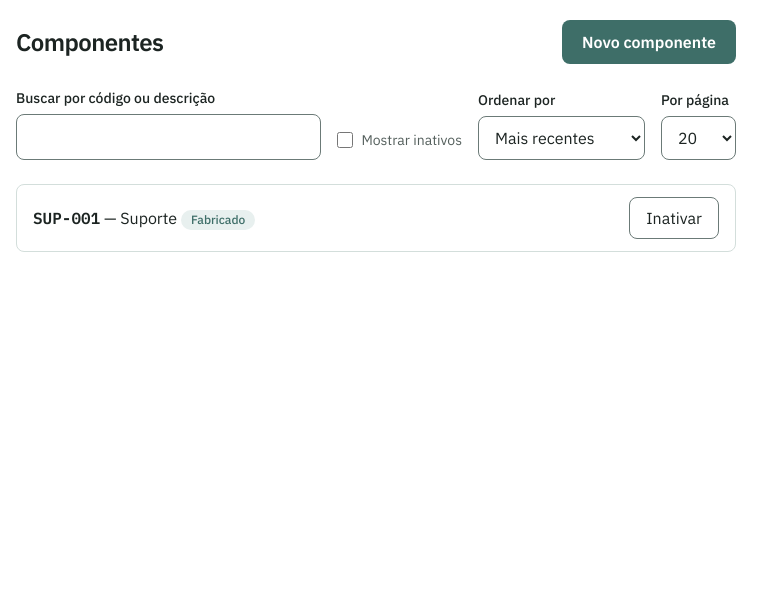
it: ComponentesPage › cadastra com sucesso: envia o corpo digitado (inclusive o tipo escolhido), limpa o formulario e recarrega a lista
The width and height of the screenshot is (757, 593).
Expected: the text "SUP-001" is shown, [33, 208, 100, 228]
Click the button "Novo componente": (649, 42) [562, 20, 736, 64]
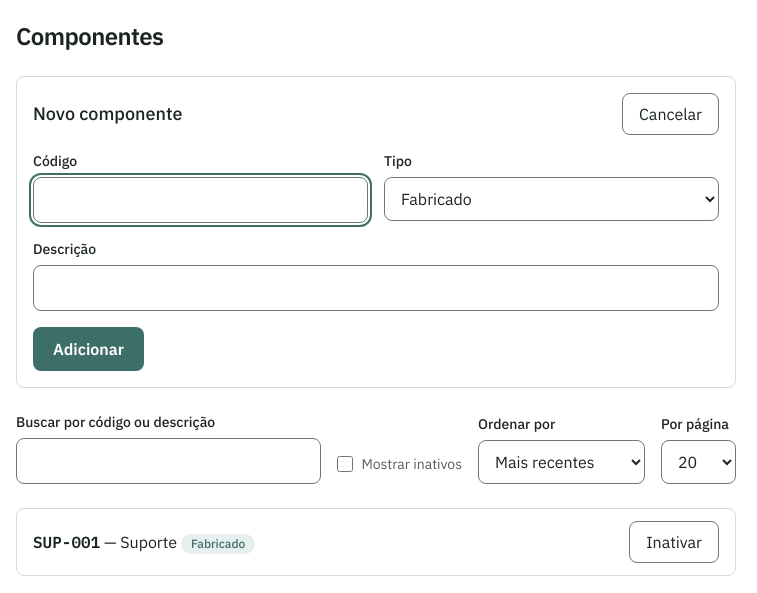
In the field labelled "Código": (200, 200) [33, 177, 368, 223], type "MON-001"
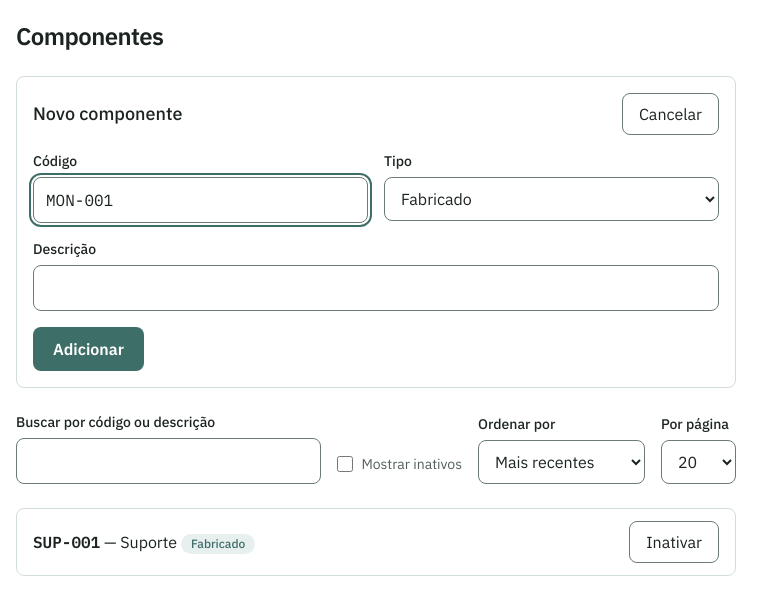
In the field labelled "Descrição": (376, 288) [33, 265, 719, 311], type "Montagem X"
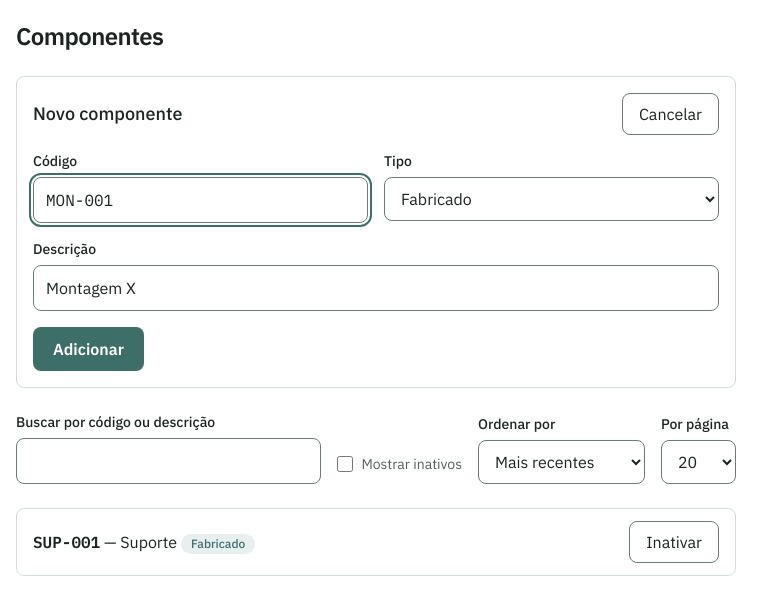
Select "Montagem" in the dropdown labelled "Tipo": (552, 199) [384, 177, 719, 221]
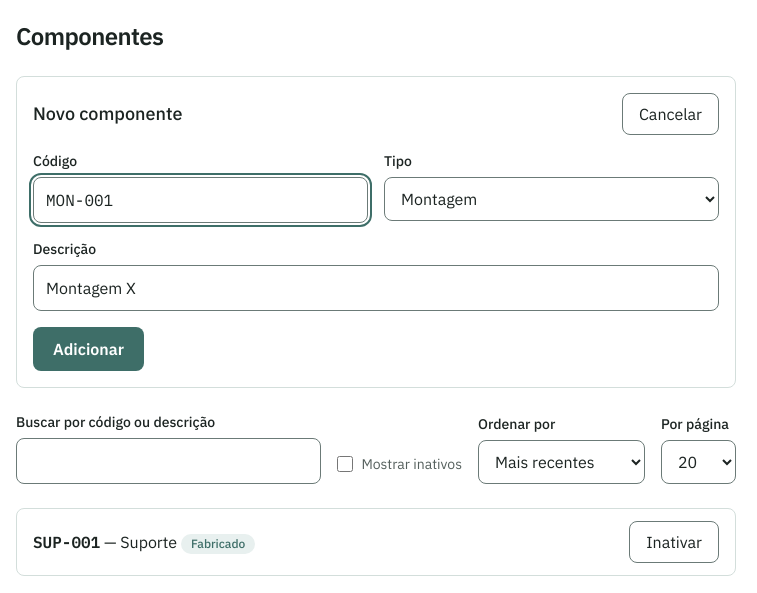
Click the button "Adicionar": (88, 349) [33, 327, 144, 371]
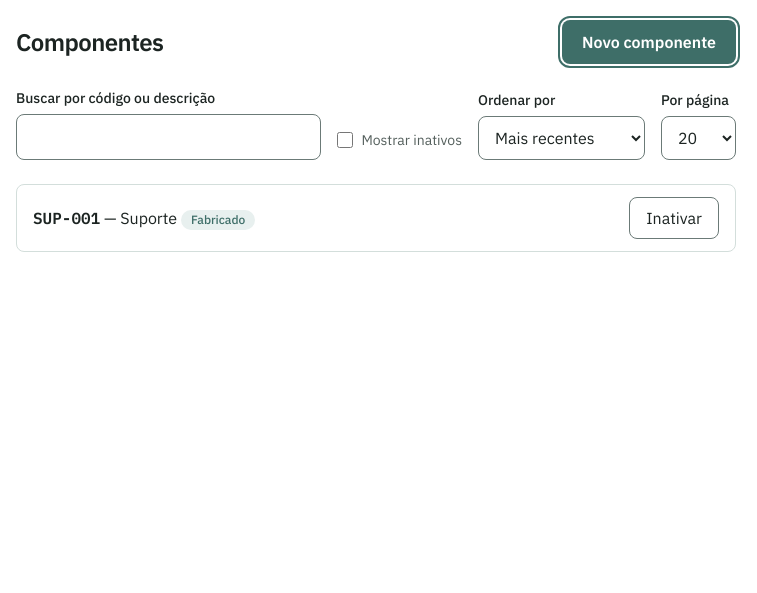
Expected: the form is gone
Click the button "Novo componente": (649, 42) [562, 20, 736, 64]
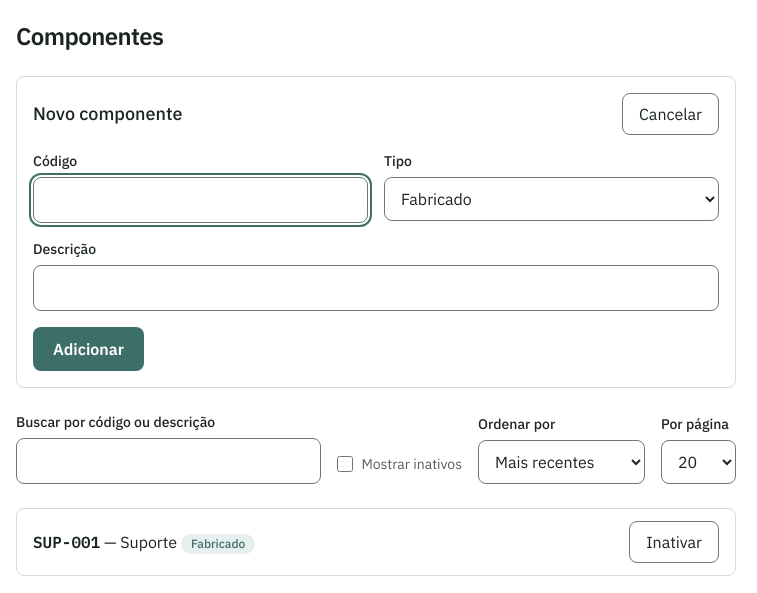
Expected: the field labelled "Descrição" is empty, [33, 265, 719, 311]
Expected: the field labelled "Código" is empty, [33, 177, 368, 223]
Expected: the dropdown labelled "Tipo" shows "Fabricado", [384, 177, 719, 221]
